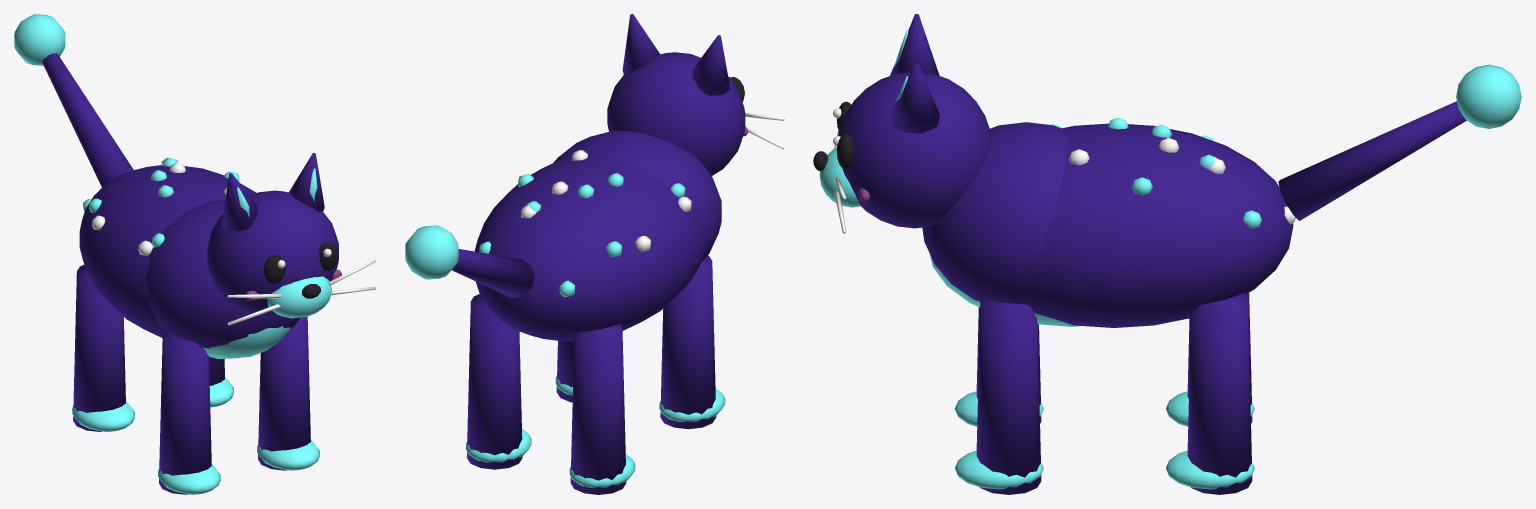
Rendered from Pet_CosmicCat.fbx.
3 renders of one model, left to right at view 1: azimuth 30°, elevation 25°; view 2: azimuth 150°, elevation 25°; view 3: azimuth 270°, elevation 25°, orthographic. The views are drawn at different scales.
Visible parts, largest first — view 1: Pet_CosmicCat; view 2: Pet_CosmicCat; view 3: Pet_CosmicCat.
Part boxes in pixels (x1,y1,x2,y2): Pet_CosmicCat: (14,14,376,494); Pet_CosmicCat: (405,14,784,494); Pet_CosmicCat: (813,14,1521,494).
Size of the model in its own units: 2.49 by 4.68 by 7.25.
Materials: 1 (1 with a texture image).
